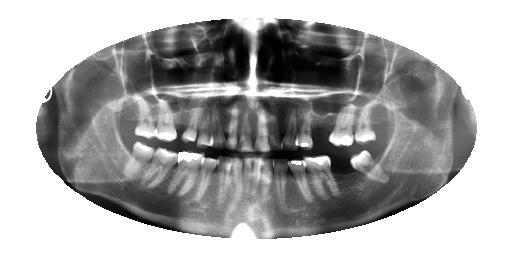i10healthy: (228, 155, 243, 213)
i11healthy: (216, 152, 233, 219)
i12healthy: (192, 154, 222, 211)
i13healthy: (166, 149, 207, 204)
i14healthy: (135, 146, 183, 196)
i15healthy: (121, 134, 156, 195)
i2healthy: (347, 149, 388, 184)
i3loss: (324, 152, 359, 190)
i4healthy: (303, 152, 344, 200)
i5healthy: (284, 158, 314, 209)
i6decay: (271, 154, 290, 222)
i7healthy: (255, 153, 275, 222)
i8healthy: (251, 154, 264, 218)
i9healthy: (239, 152, 253, 217)
u10healthy: (220, 99, 241, 153)
u11healthy: (205, 100, 228, 150)
u12healthy: (195, 101, 216, 149)
u13healthy: (179, 103, 202, 150)
u14healthy: (151, 99, 177, 146)
u15healthy: (130, 91, 156, 143)
u2healthy: (352, 100, 378, 147)
u3healthy: (327, 99, 360, 153)
u4loss: (306, 103, 337, 152)
u5healthy: (292, 110, 316, 153)
u6healthy: (276, 103, 305, 155)
u7decay: (264, 105, 284, 152)
u8healthy: (253, 104, 271, 155)
u9healthy: (237, 104, 254, 155)
